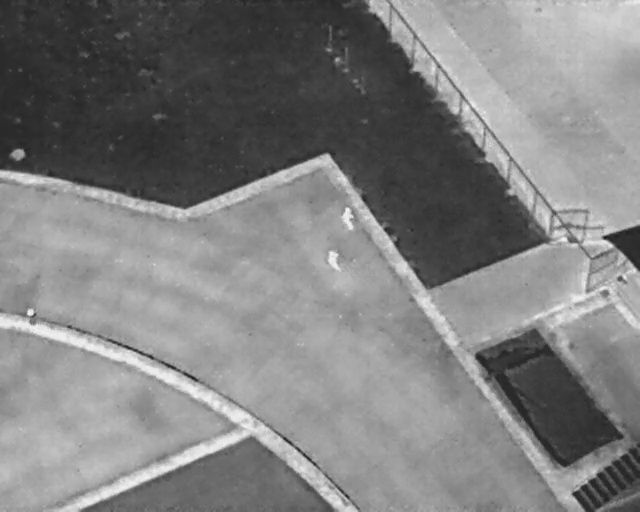Person: (342, 205, 355, 231), (326, 250, 341, 272), (24, 305, 38, 327)
